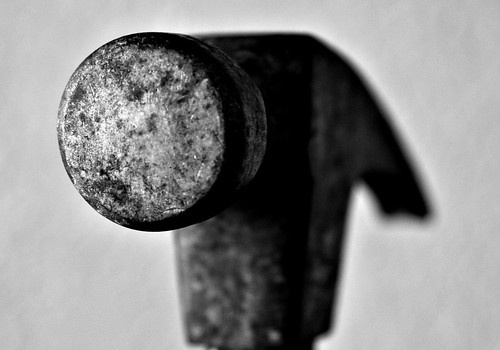hammer: (54, 31, 436, 350)
